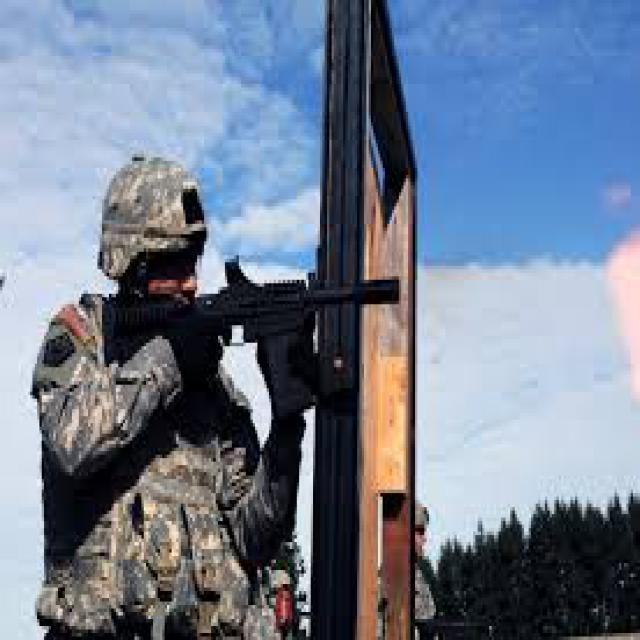long weapon: (94, 253, 416, 428)
